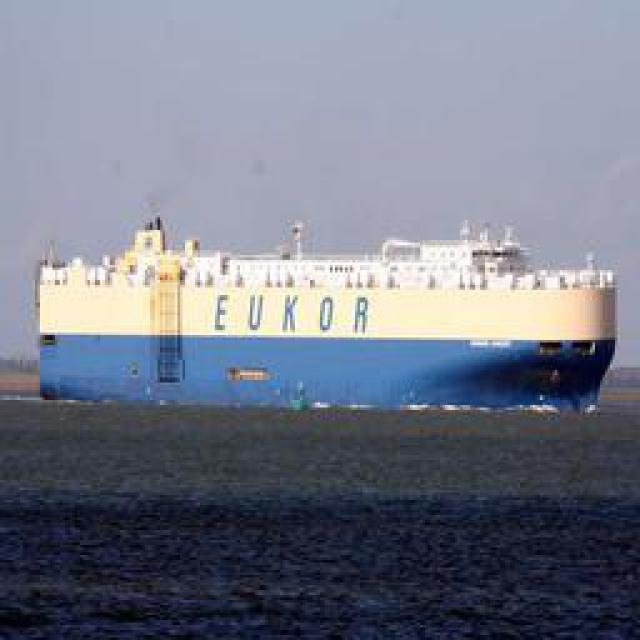Ship: (38, 196, 616, 411)
